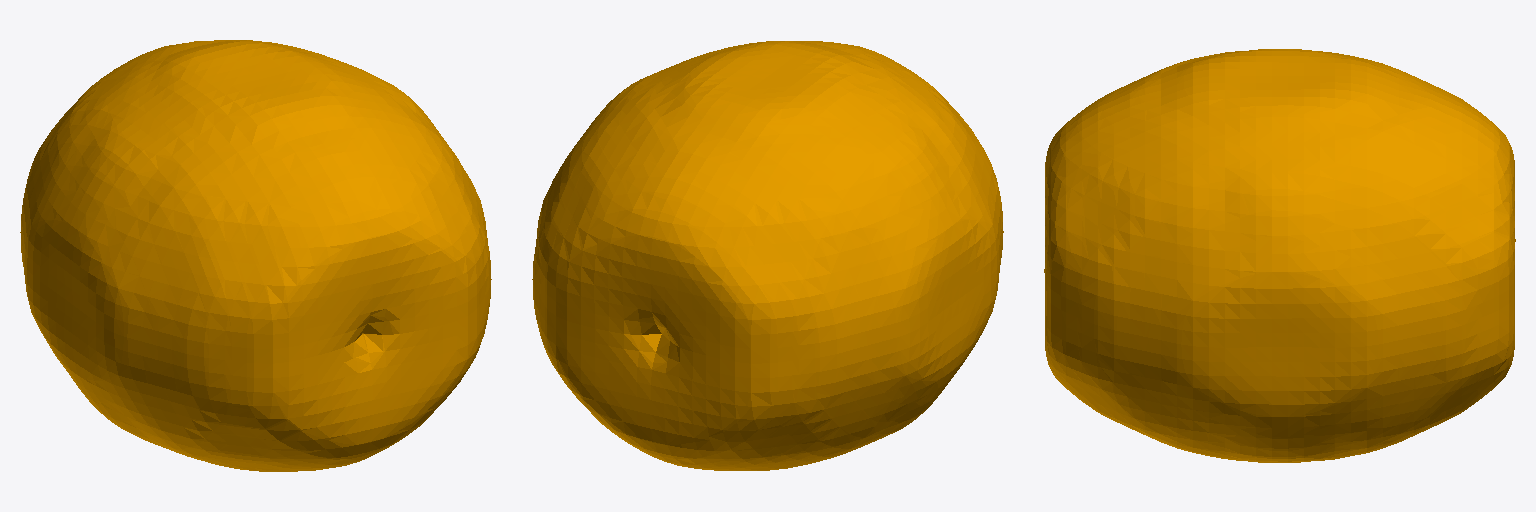
URDF robot description (A0):
<robot name="A0">
    <link name="base">
        <inertial>
            <origin xyz="-0.0 -0.0 -0.0" />
            <mass value="0.3227" />
            <inertia ixx="0.0244" ixy="0.0"
                     ixz="0.0" iyy="0.0215"
                     iyz="-0.0" izz="0.0305" />
        </inertial>
        <visual>
            <origin xyz="0 0 0" />
            <geometry>
                <mesh filename="A0.obj" />
            </geometry>
        </visual>
        <collision>
            <origin xyz="0 0 0" />
            <geometry>
                <mesh filename="A0.obj" />
            </geometry>
        </collision>
    </link>
</robot>

--- Facts derived from the render (not from the file) ---
3 views of the same robot in one strip: view 1: azimuth 30°, elevation 25°; view 2: azimuth 150°, elevation 25°; view 3: azimuth 270°, elevation 25° (orthographic).
Robot: A0 — 1 links, 0 joints (none); root link base; default pose: all joints at 0.
Links seen in each view (by area): view 1: base; view 2: base; view 3: base.
Link boxes in pixels (box(x1,y1,x2,y2)): base: box(20, 40, 491, 471); base: box(532, 41, 1003, 470); base: box(1044, 49, 1515, 462).
Size in the robot's own frame: 92.27 by 100 by 84.59 metres.
1 mesh visuals loaded from 1 distinct referenced files (1 OBJ).